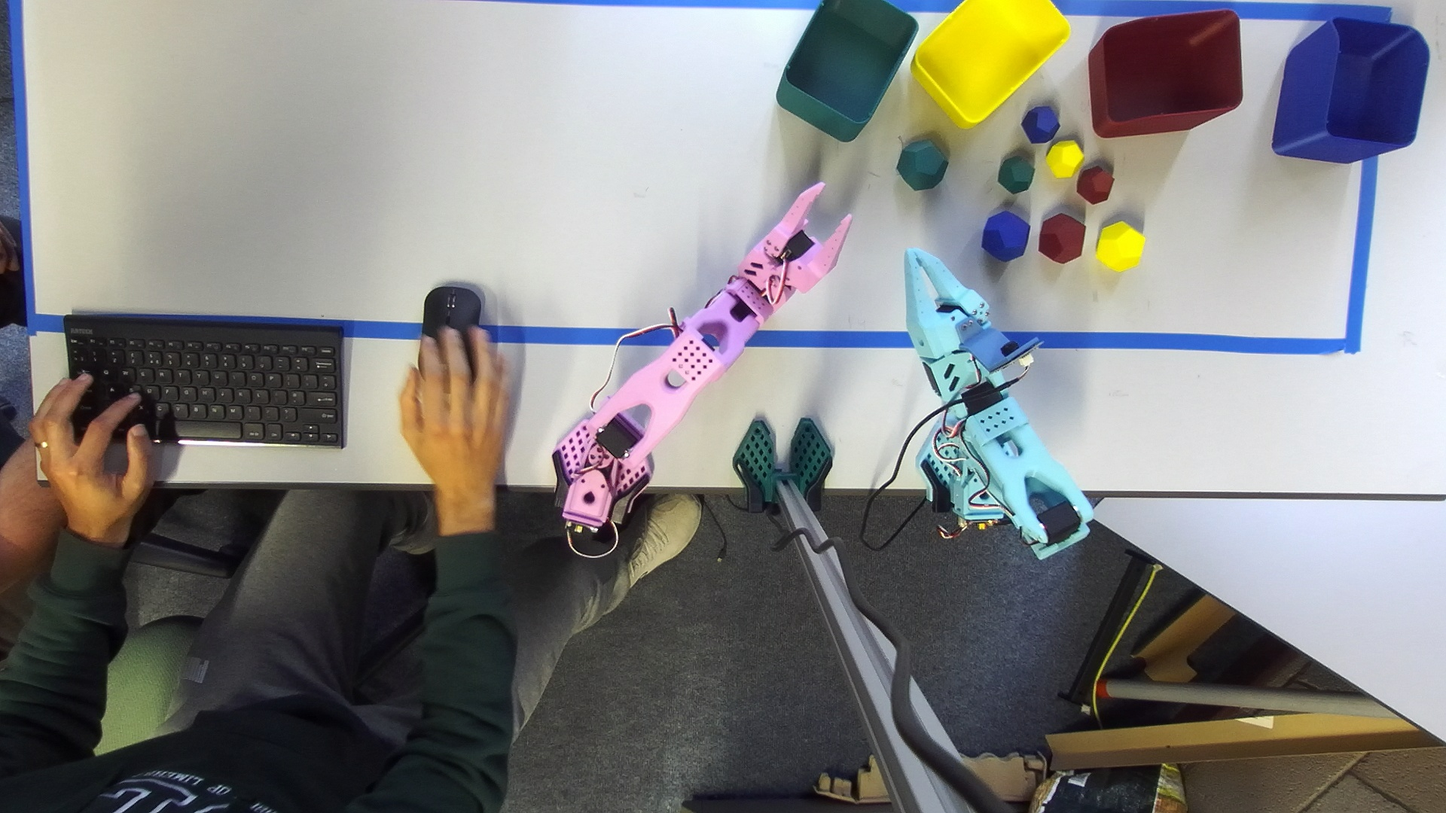bin: (1272, 18, 1428, 162), (776, 0, 918, 142), (911, 0, 1069, 127), (1088, 10, 1242, 137)
dodecahedron: (896, 139, 947, 190), (981, 210, 1029, 261), (1096, 221, 1144, 271), (1038, 213, 1084, 263), (1076, 160, 1112, 204), (1021, 105, 1059, 143), (1046, 140, 1083, 178), (998, 154, 1034, 193)
gripper: (731, 182, 851, 309), (904, 248, 988, 358)
